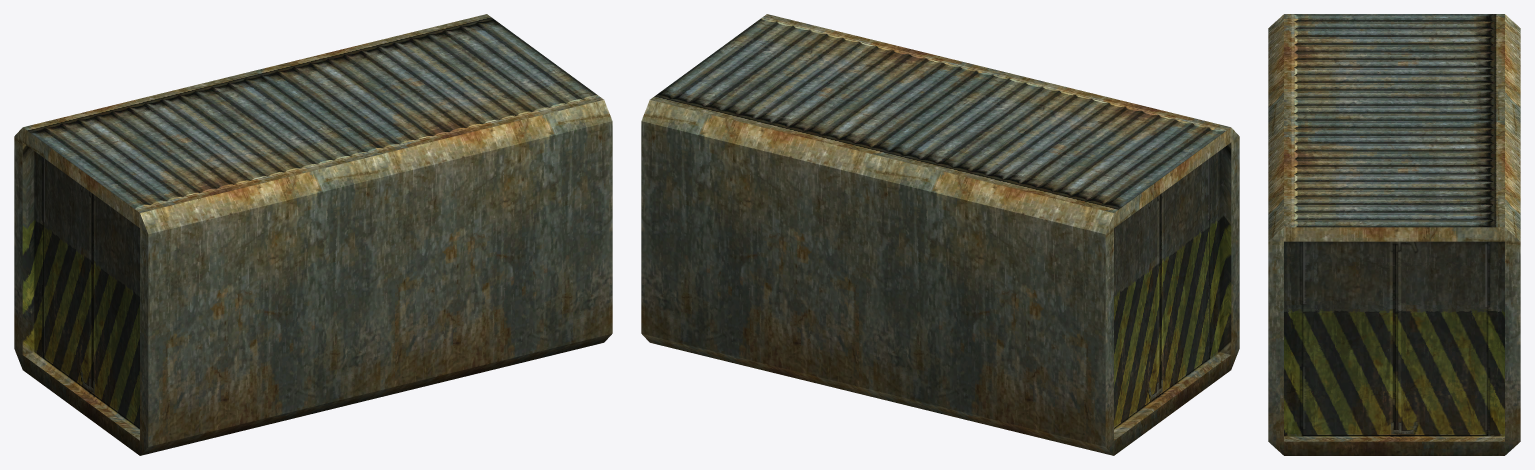
File: Crate_Big02.glb
3 renders of one model, left to right at view 1: azimuth 30°, elevation 25°; view 2: azimuth 150°, elevation 25°; view 3: azimuth 270°, elevation 25°, orthographic. The views are drawn at different scales.
Parts seen in each view (by area): view 1: CRATE_BIG02; view 2: CRATE_BIG02; view 3: CRATE_BIG02.
Part boxes in pixels (x1,y1,x2,y2): CRATE_BIG02: [14, 14, 612, 455]; CRATE_BIG02: [641, 14, 1239, 455]; CRATE_BIG02: [1268, 14, 1520, 455].
Bounding box in the file's own units: 8 × 4 × 4.
Materials: 3 (3 with a texture image).
